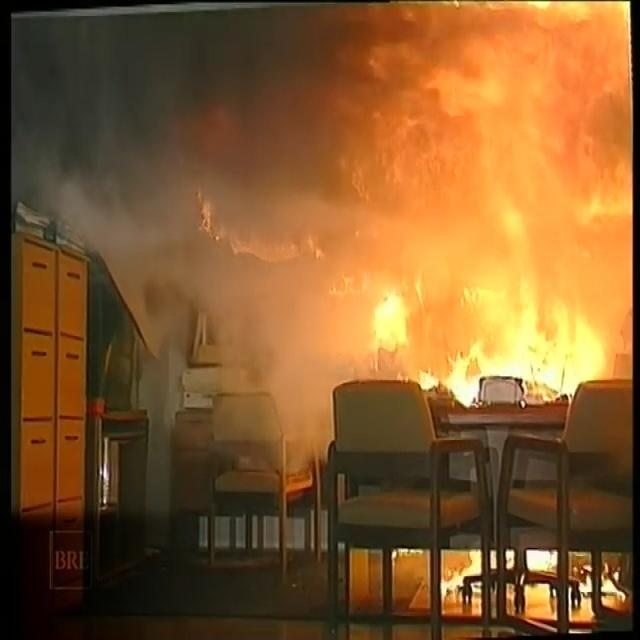Fire: (208, 7, 630, 314)
